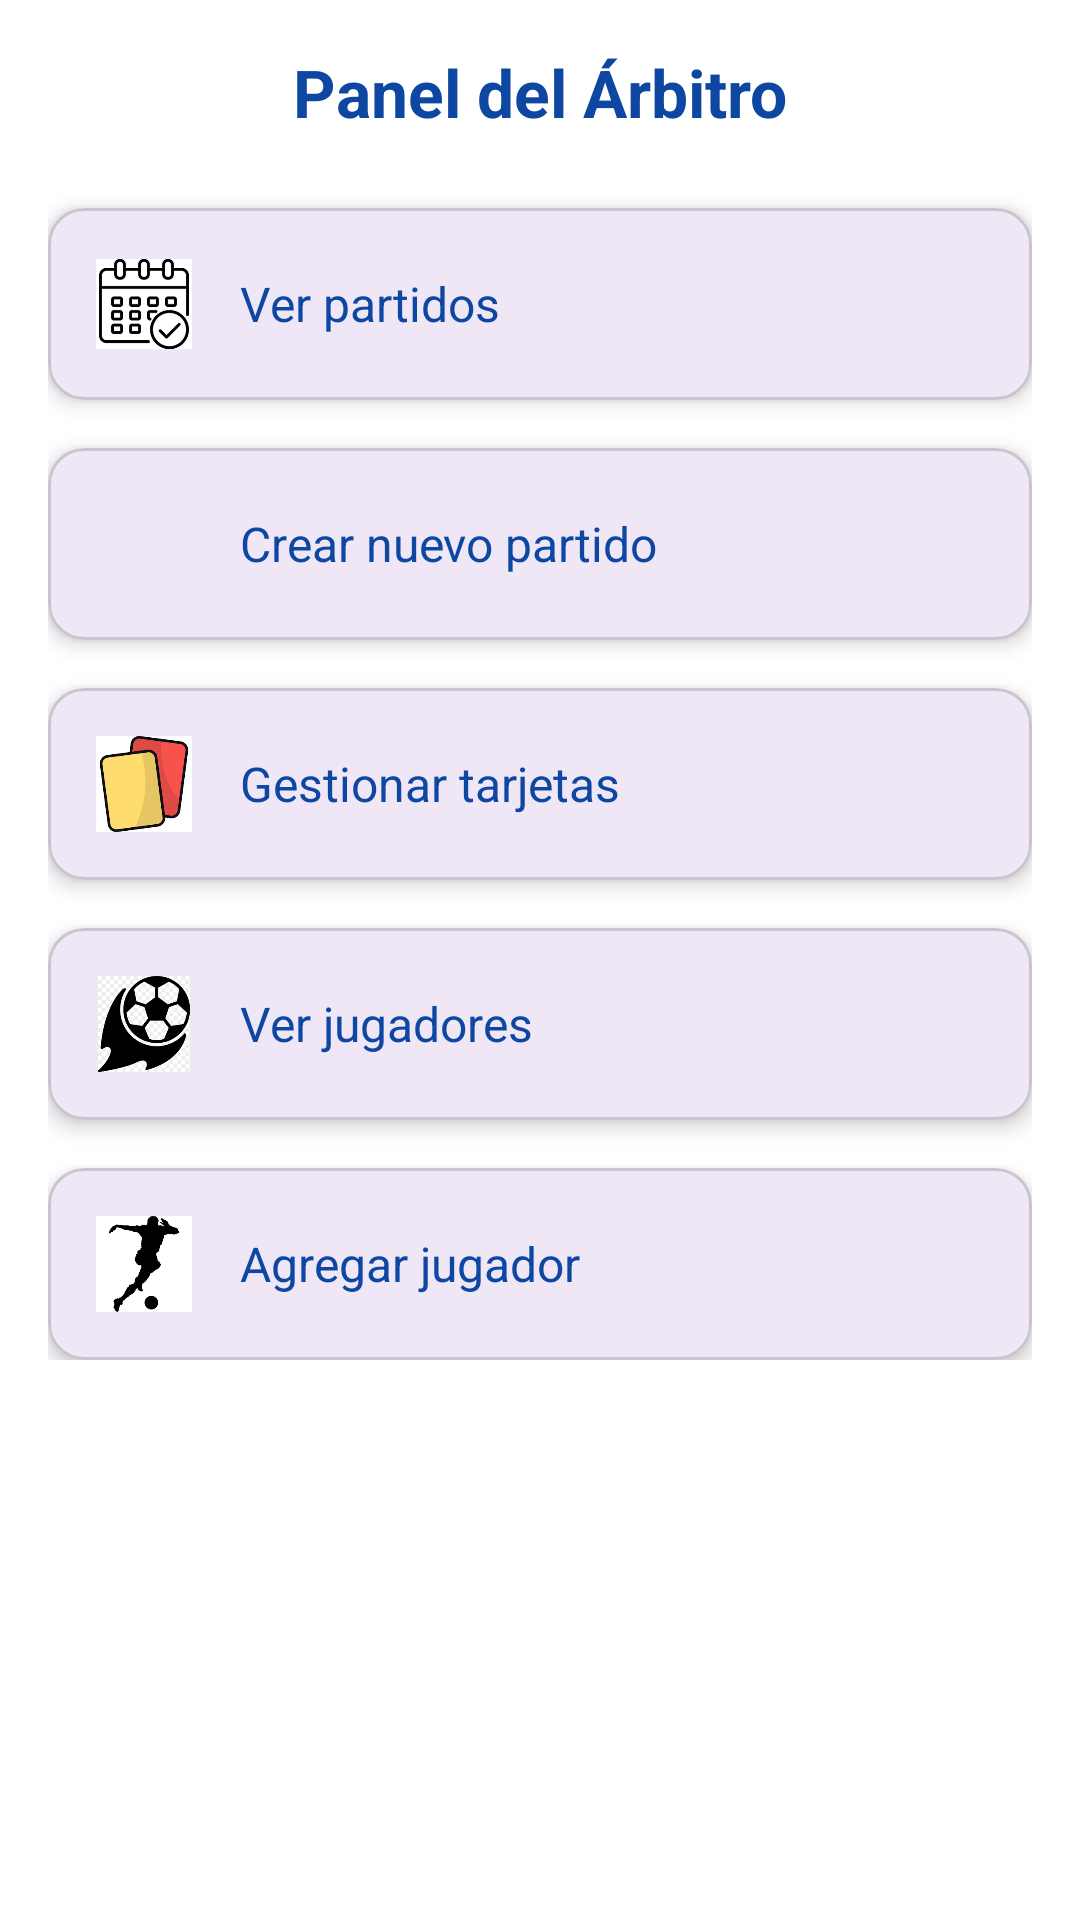

Named icons in this screenshot (1080px x 1920px) and their bounding boxes, (x1, y1, x2, y2):
calendar: (96, 259, 192, 349)
person: (96, 1216, 192, 1312)
